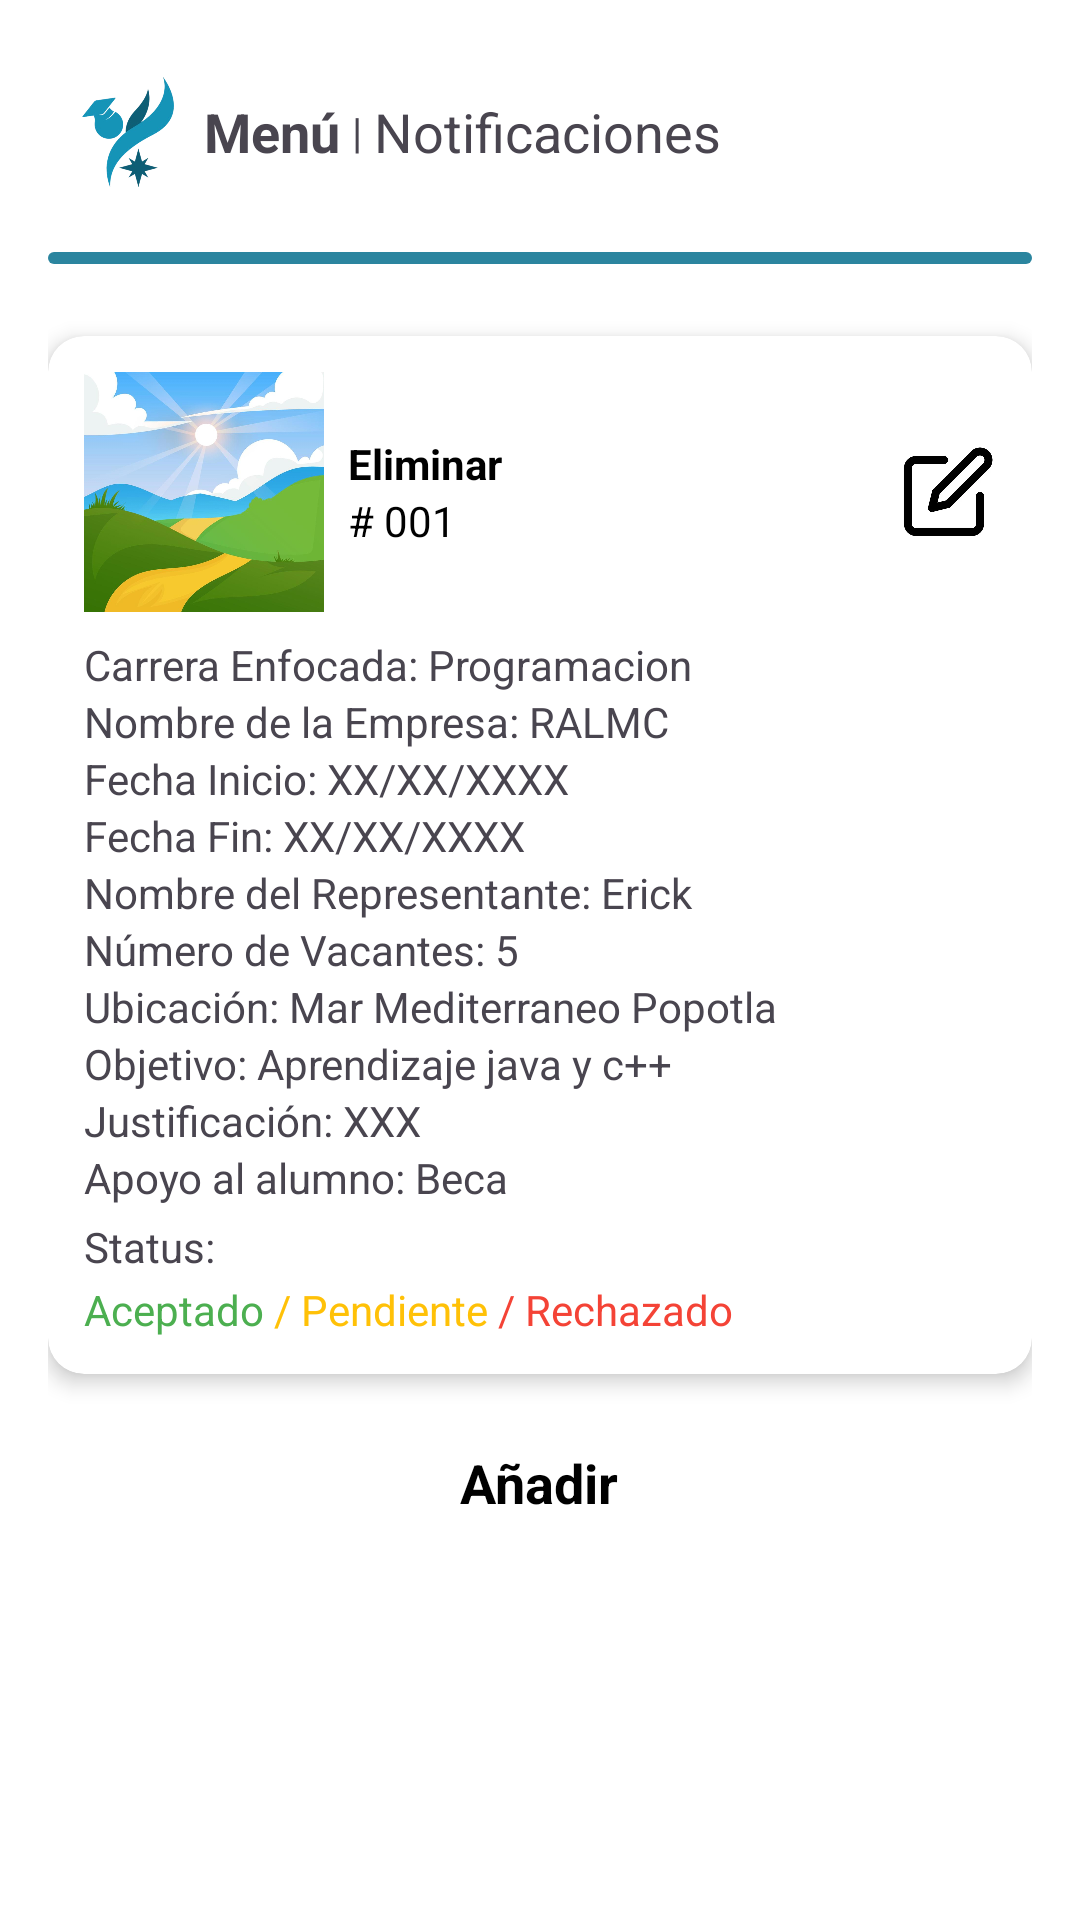

Screen size 1080×1920. Icon name, then its center in pixels as point (x, y):
Editar: point (948, 491)
Imagen del proyecto: point (204, 492)
